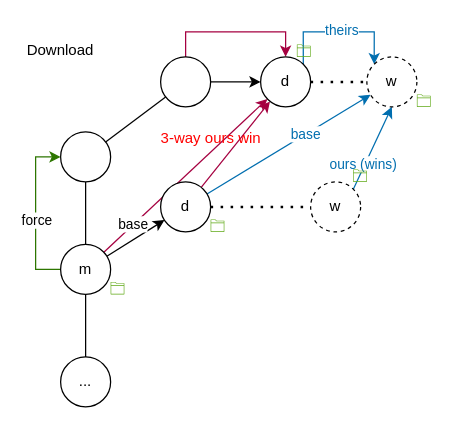
Image size: 453x429. Some labels were removed from this diagram. Each missing label, with the centre of its shape:
"o/d" belongs at [185,81].
"o/m" belongs at [85,156].
